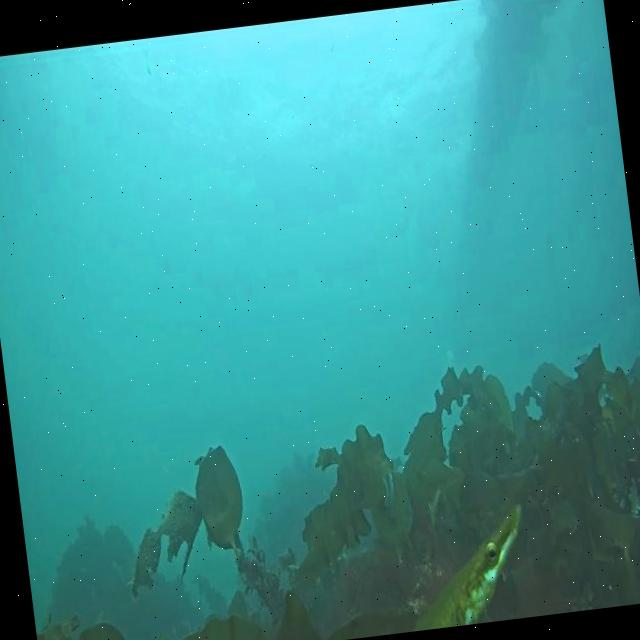fish: (405, 503, 539, 628)
